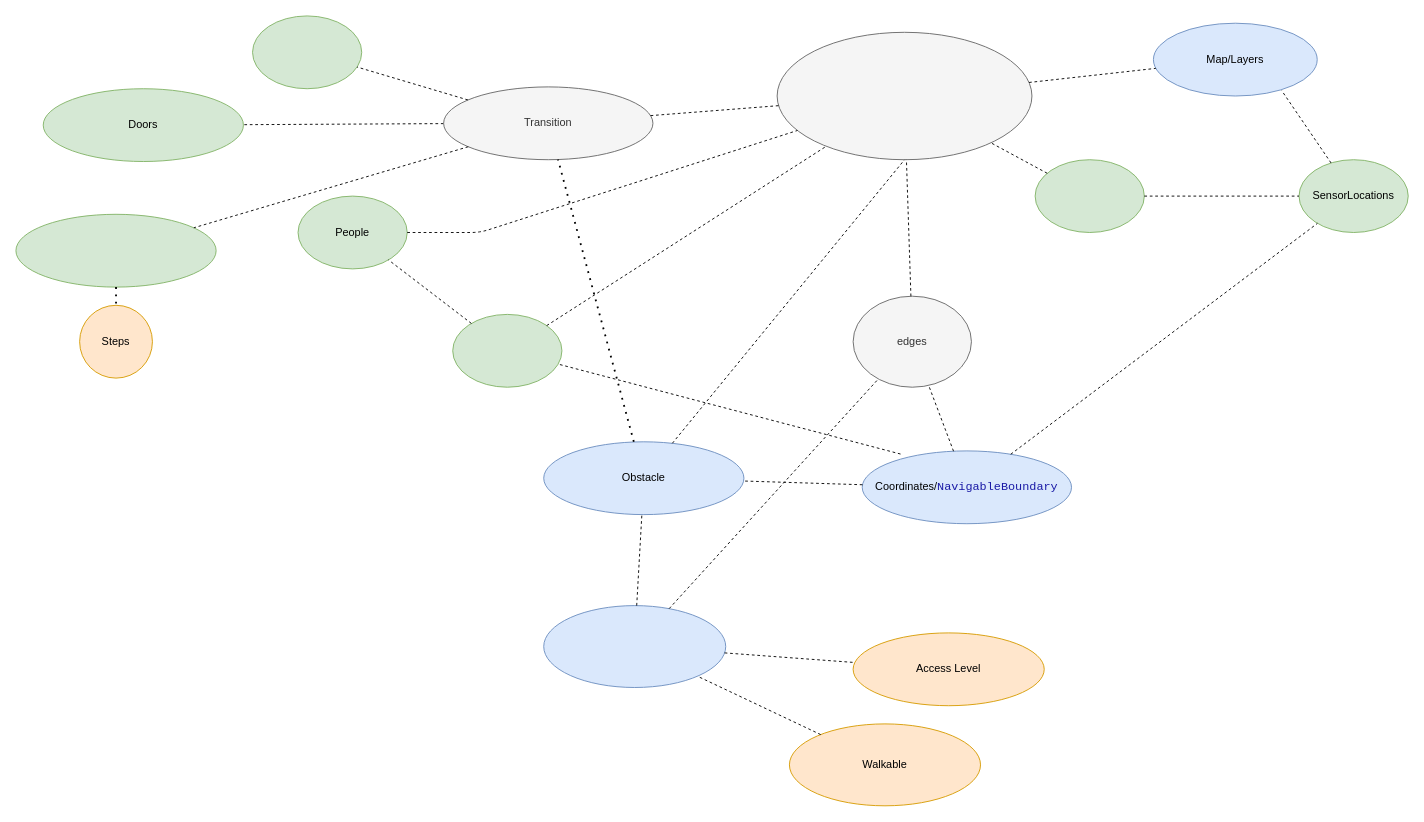
Some shapes in this 1424 by 822 pixel diagram are drawn without their labels. Here are the shapes that lost their labels. From the top down, the centre of each, then its label:
the point at 307,52: Elevator
the point at 904,95: Space
the point at 1089,196: TrackableArea
the point at 115,250: ladder
the point at 507,350: Mobile Obstacle
the point at 634,646: Restrictions
